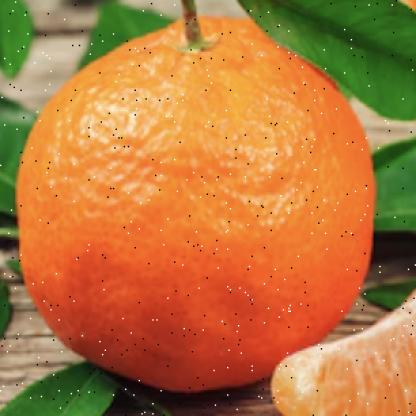fresh: (16, 17, 375, 395)
